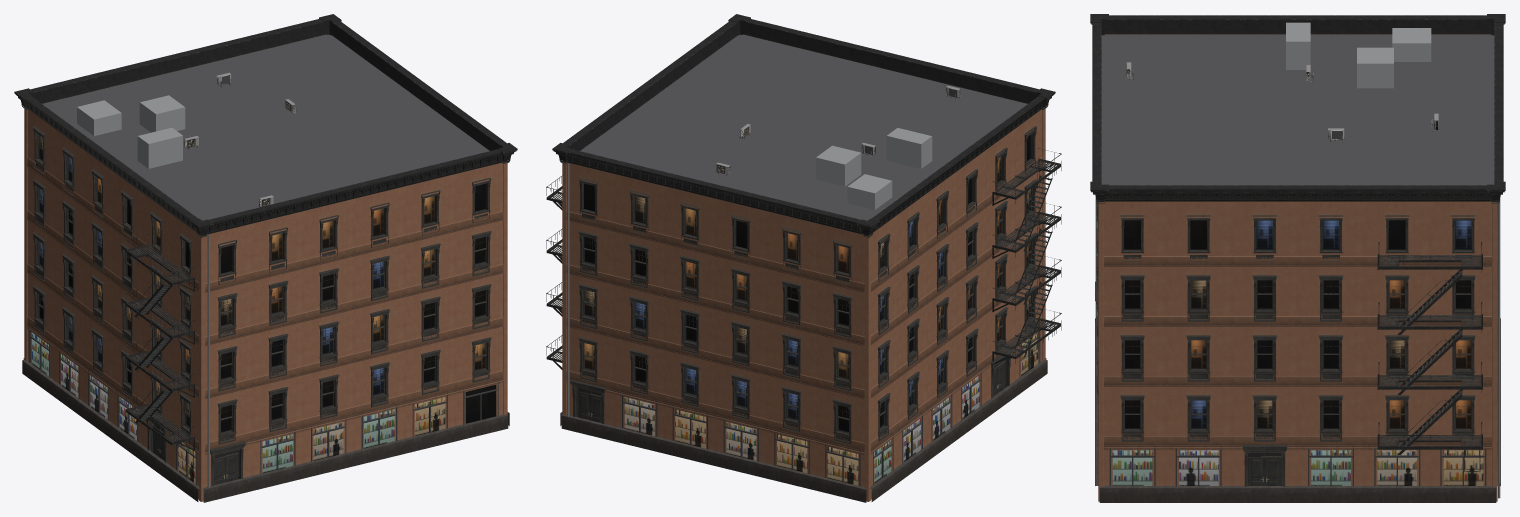
File: apt_c.gltf
3 views of the same model, side by side, from view 1: azimuth 30°, elevation 25°; view 2: azimuth 150°, elevation 25°; view 3: azimuth 270°, elevation 25° (orthographic). The views are drawn at different scales.
Visible parts, largest first — view 1: apt_c; view 2: apt_c; view 3: apt_c.
Part boxes in pixels (<box>): apt_c: <box>14,14,517,502</box>; apt_c: <box>546,14,1061,502</box>; apt_c: <box>1090,14,1505,502</box>.
Bounding box in the file's own units: 20.83 × 16.36 × 18.85.
Materials: 15 (10 with a texture image).
